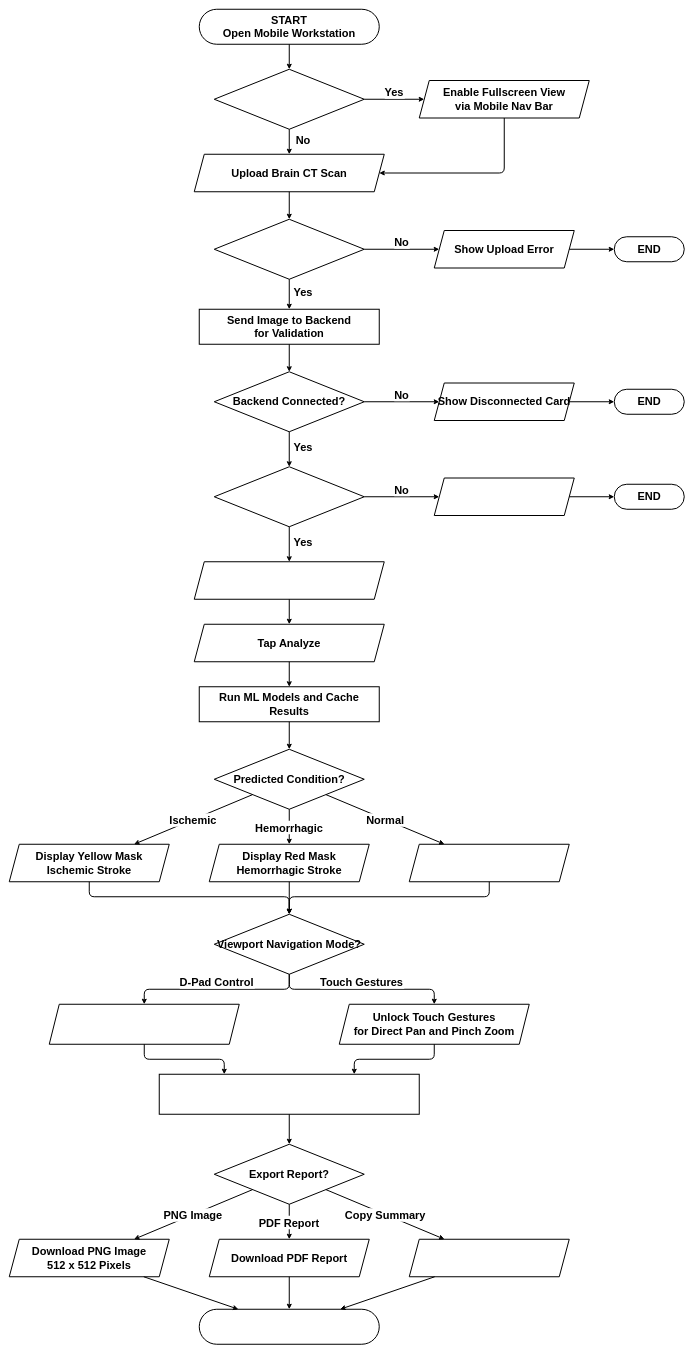
Image size: 693x1353. Some labels were removed from this diagram. Each missing label, with the centre of its shape:
Copy Summary Text: the point at 489,1257
Display CT Slice and Standby Card: the point at 289,580
Display Normal Scan No Lesion Detected: the point at 489,863
END Analysis Complete: the point at 289,1326
Navigate via 4-Way D-Pad and Stepped Zoom Buttons: the point at 144,1024
Review Results and Adjust Settings Switch Models, Threshold, Opacity, Grid: the point at 289,1094
Show Invalid Scan Card: the point at 504,496
Toggle Fullscreen?: the point at 289,99
Valid Brain CT Scan?: the point at 289,496
Valid Format and Size <= 25 MB?: the point at 289,249
